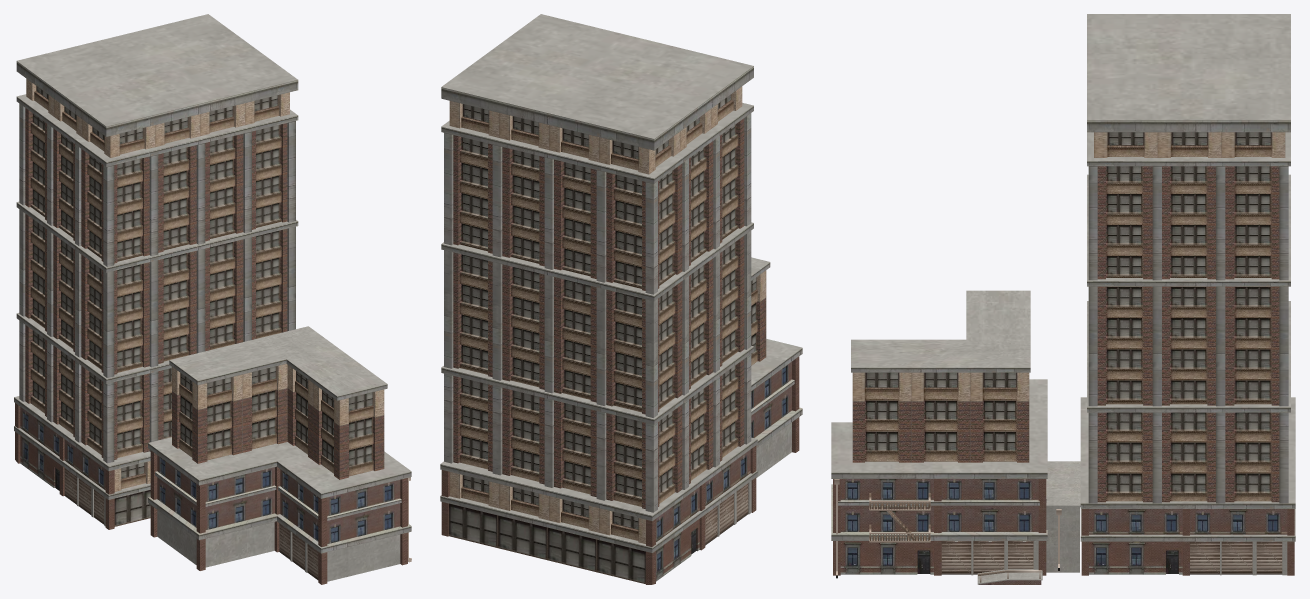
The model's file is game_ready_city_buildings.glb.
The picture shows the model from 3 angles, left to right: view 1: azimuth 30°, elevation 25°; view 2: azimuth 150°, elevation 25°; view 3: azimuth 270°, elevation 25°; orthographic projection. The views are drawn at different scales.
Visible parts, largest first — view 1: Object_4; view 2: Object_4; view 3: Object_4.
Boxes of the visible parts, x1=… form: Object_4: x1=14, y1=14, x2=411, y2=584; Object_4: x1=440, y1=14, x2=802, y2=584; Object_4: x1=831, y1=14, x2=1295, y2=584.
Size of the model in its own units: 1.73 by 3.22 by 2.96.
1 material, 1 textured.
